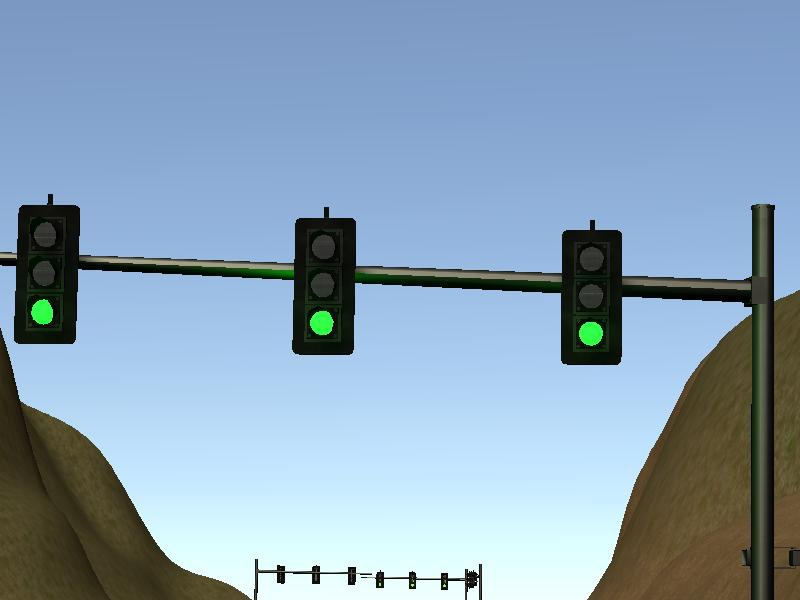Green: (12, 202, 81, 344), (290, 216, 359, 358), (556, 226, 625, 368), (406, 570, 418, 591), (373, 569, 386, 588), (439, 571, 448, 591)
